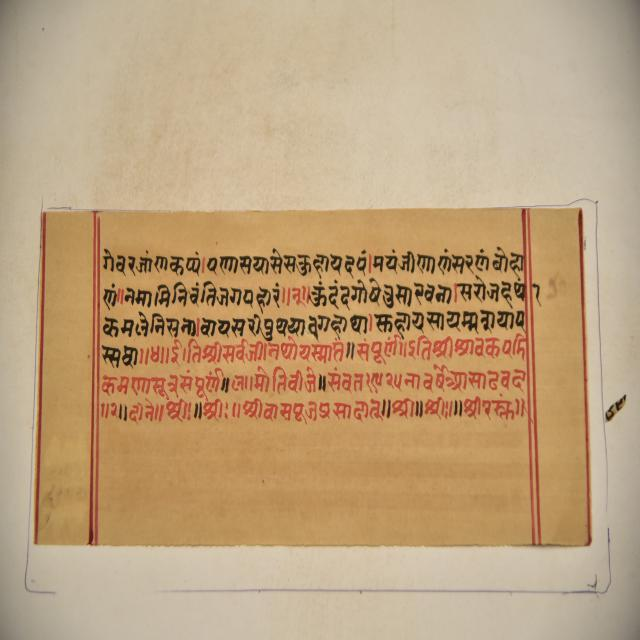text_paragraph: (33, 209, 591, 548)
